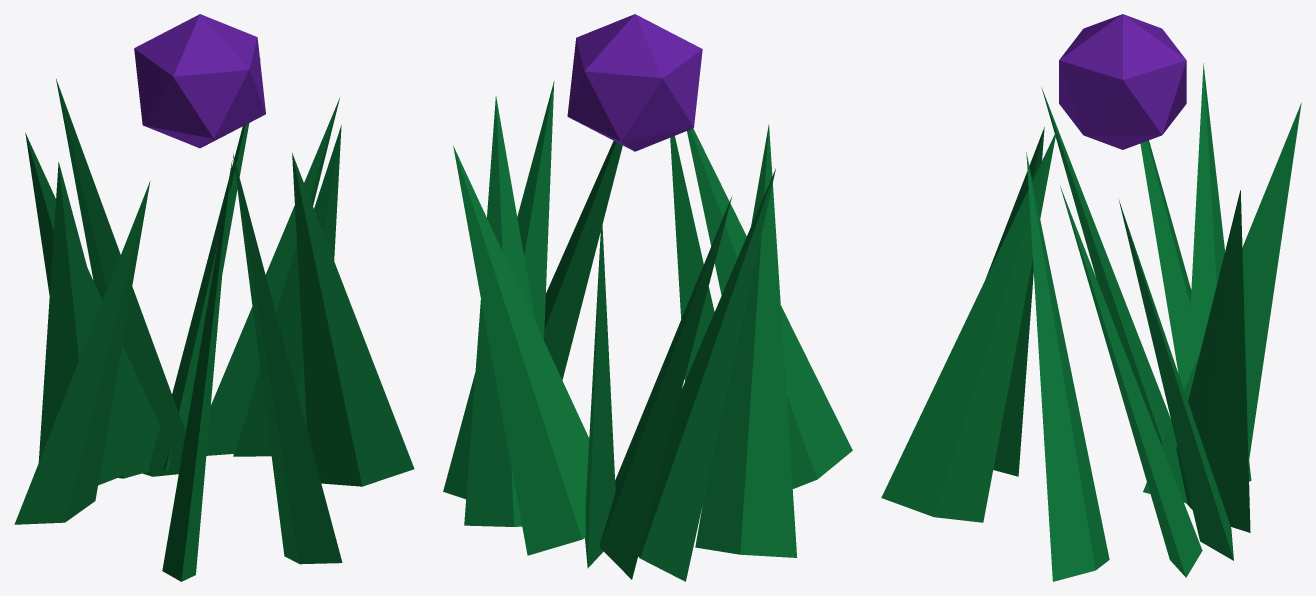
File: Prop_OR_Herb_26.glb
3 views of the same model, side by side, from view 1: azimuth 30°, elevation 25°; view 2: azimuth 150°, elevation 25°; view 3: azimuth 270°, elevation 25° (orthographic). The views are drawn at different scales.
Visible parts, largest first — view 1: Prop_OR_Herb_26; view 2: Prop_OR_Herb_26; view 3: Prop_OR_Herb_26.
Part boxes in pixels (left/top/right/bottom): Prop_OR_Herb_26: left=14, top=14, right=414, bottom=581; Prop_OR_Herb_26: left=443, top=14, right=852, bottom=581; Prop_OR_Herb_26: left=881, top=14, right=1301, bottom=581.
Size of the model in its own units: 0.4887 by 0.6576 by 0.5.
